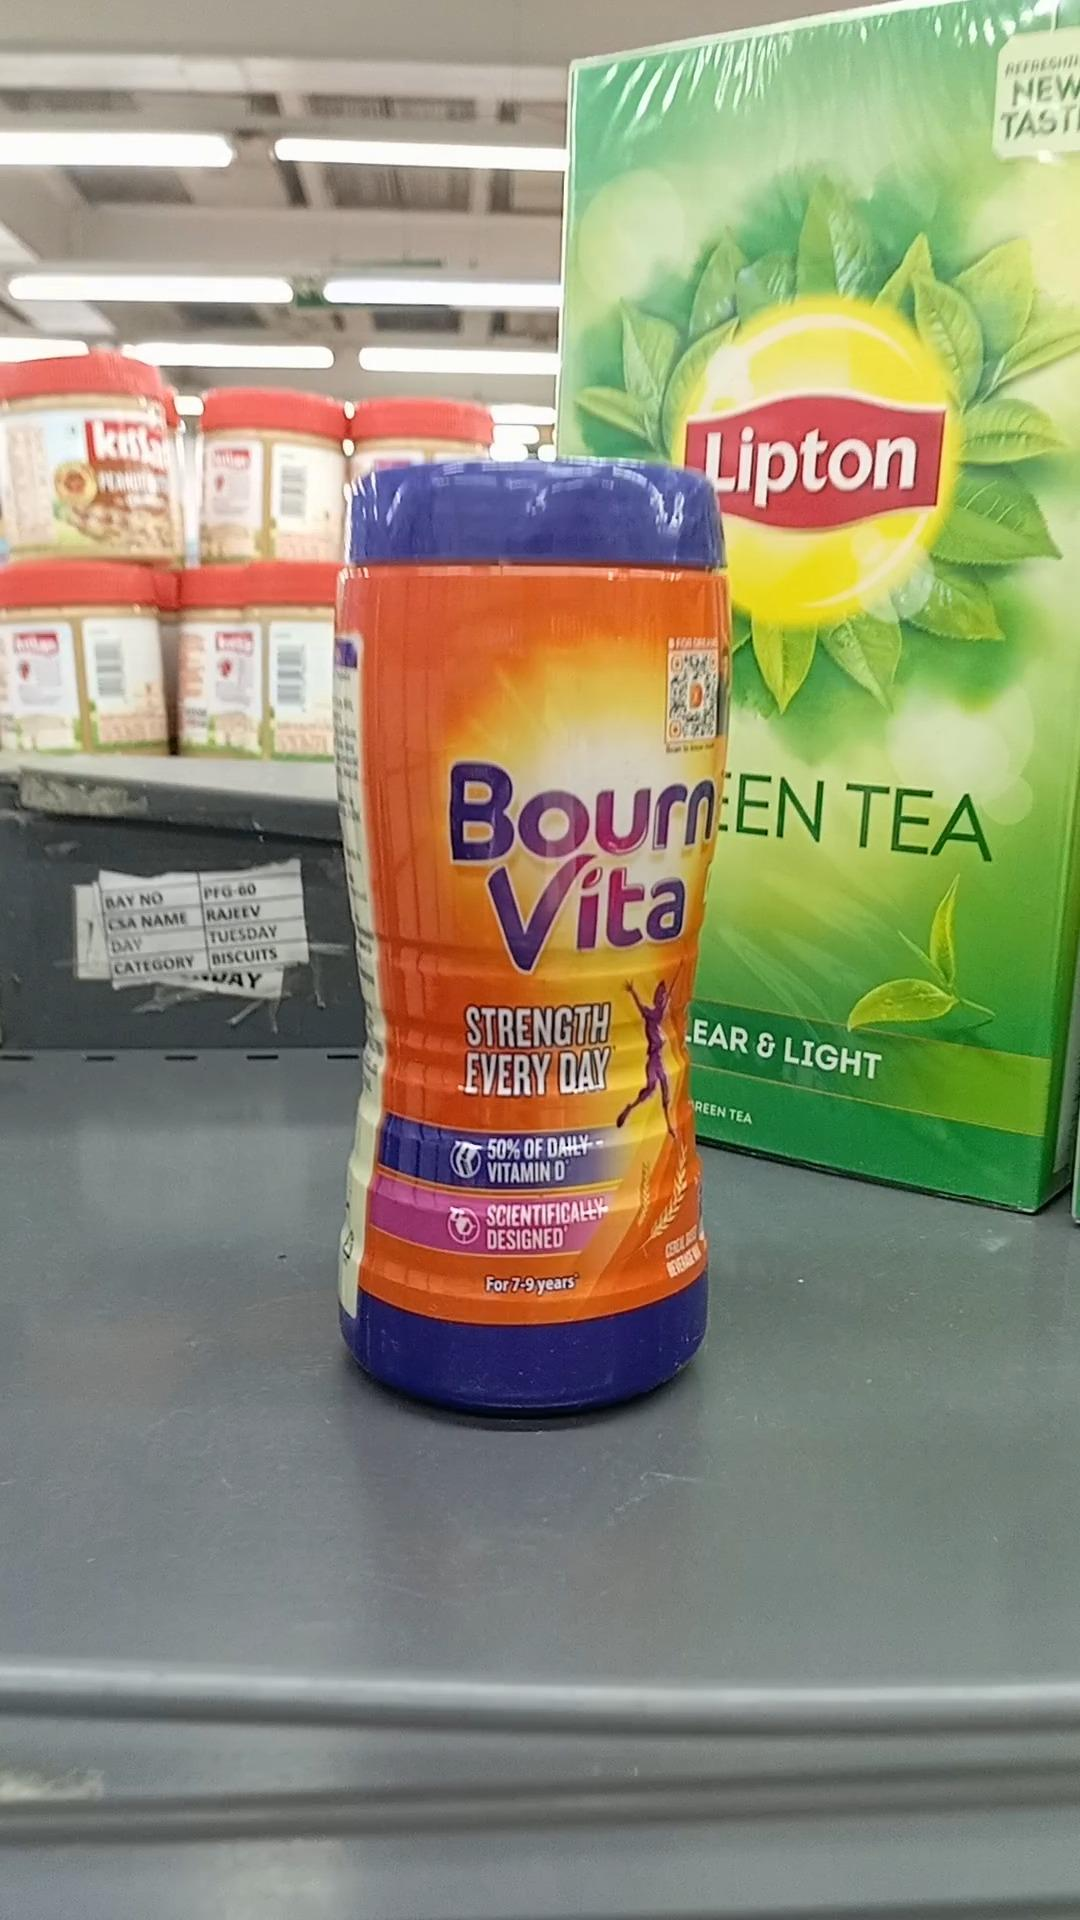BOURN_VITA_200_G_JAR: (328, 426, 708, 1416)
